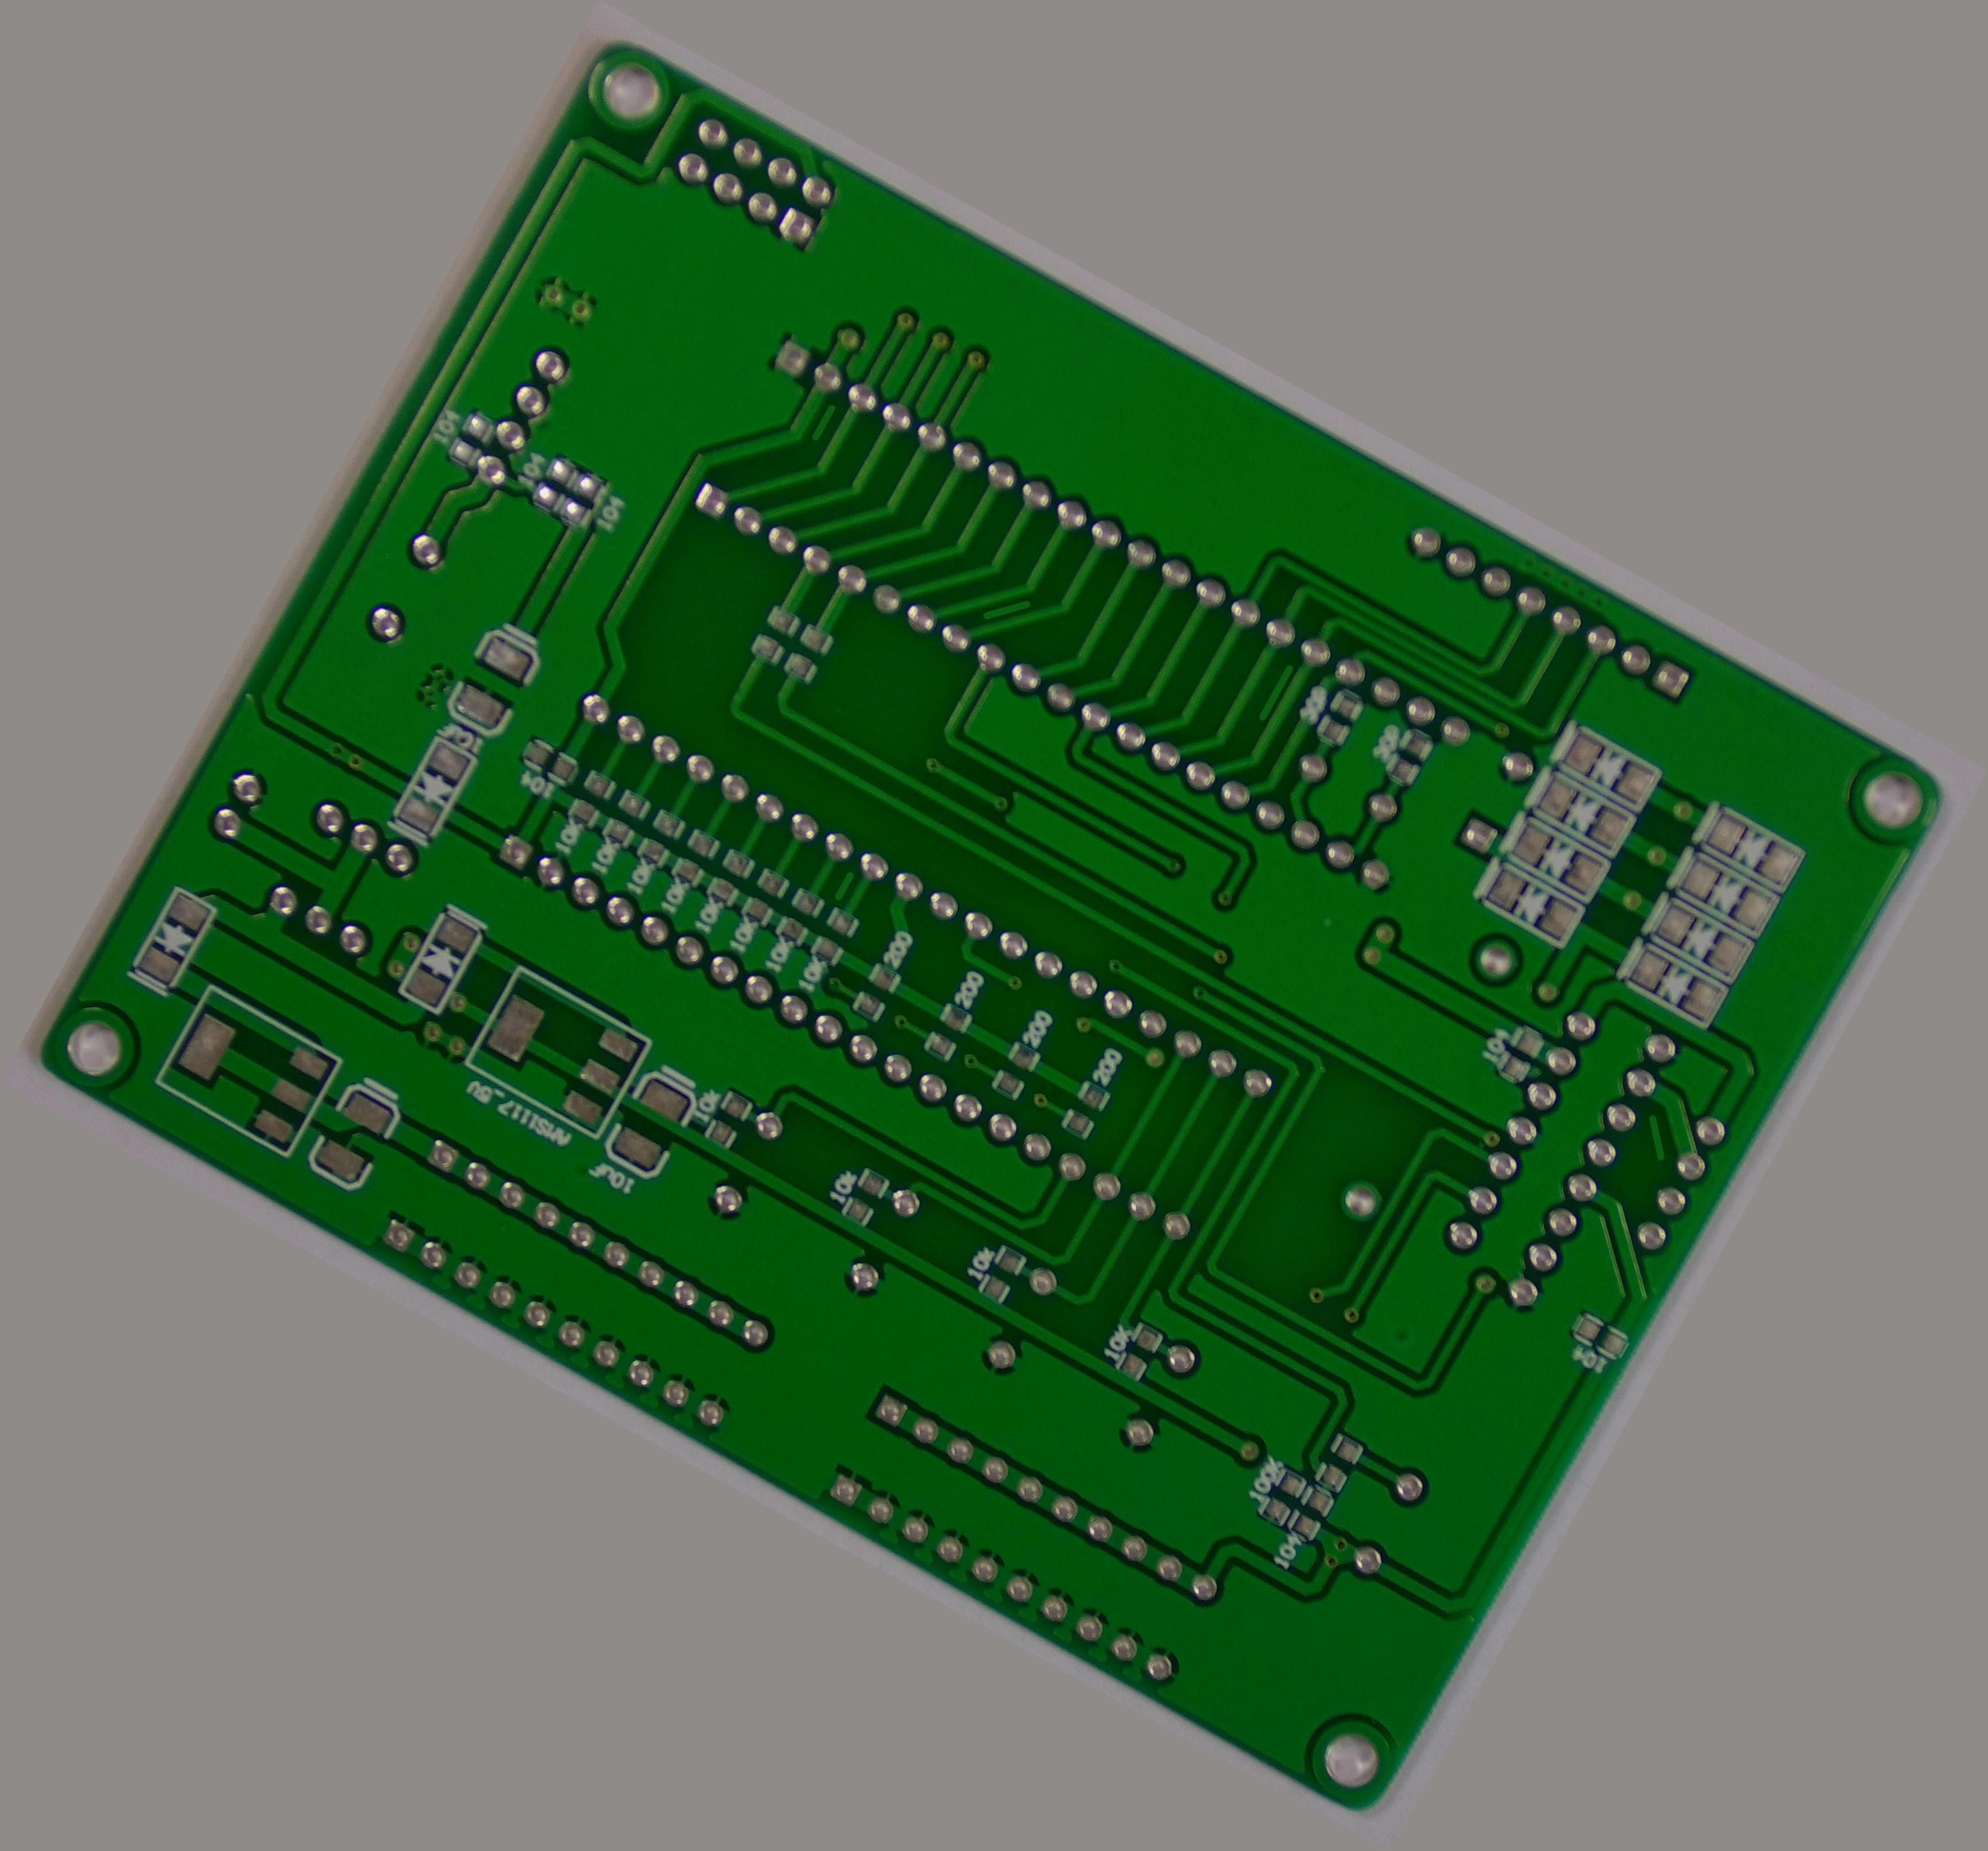spurious_copper: (964, 567, 1045, 642), (1242, 652, 1308, 731), (1619, 1103, 1687, 1173), (800, 391, 852, 454), (821, 861, 864, 910)
